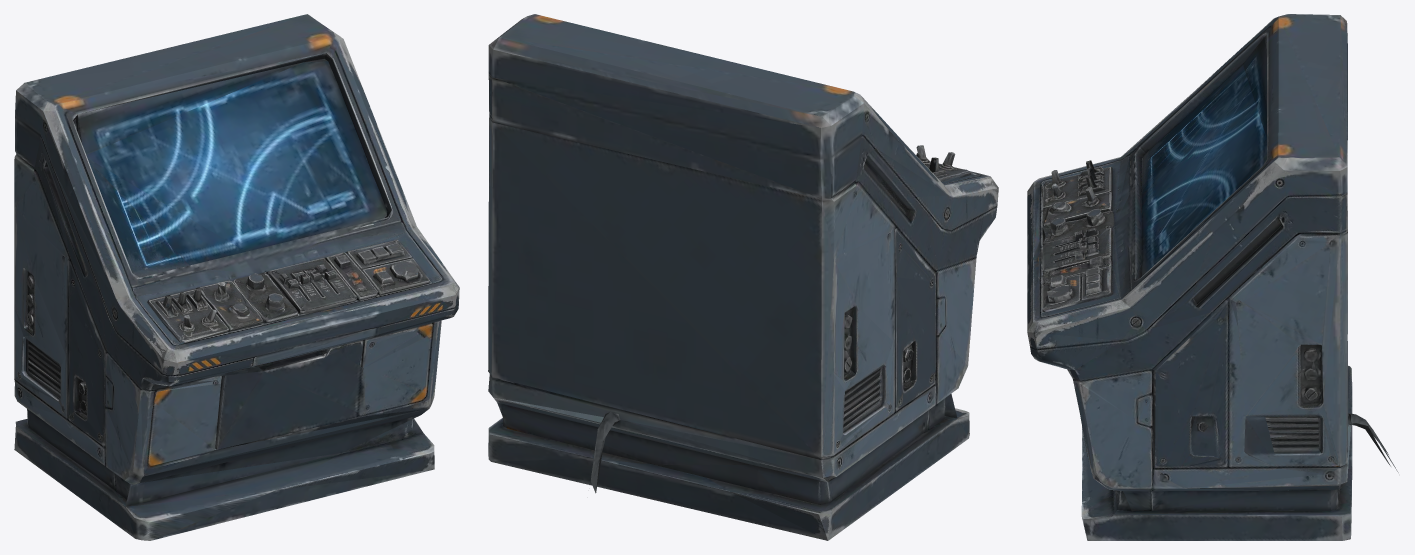
The model's file is bridgeconsole.glb.
The picture shows the model from 3 angles, left to right: view 1: azimuth 30°, elevation 25°; view 2: azimuth 150°, elevation 25°; view 3: azimuth 270°, elevation 25°; orthographic projection. The views are drawn at different scales.
Visible parts, largest first — view 1: Mesh_0; view 2: Mesh_0; view 3: Mesh_0.
Boxes of the visible parts, <box> form: Mesh_0: <box>14,14,459,540</box>; Mesh_0: <box>488,14,998,540</box>; Mesh_0: <box>1027,14,1398,540</box>.
Bounding box in the file's own units: 1.38 × 1.6 × 1.42.
1 material, 1 textured.
